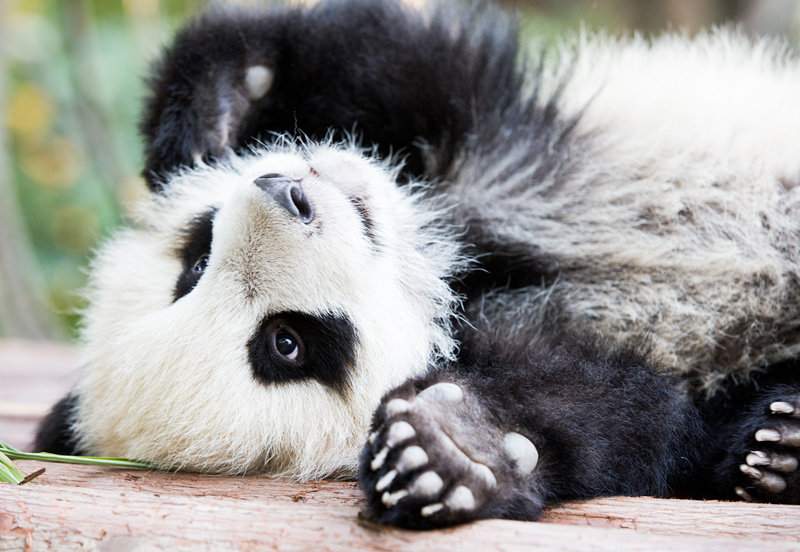panda: (21, 3, 800, 532)
